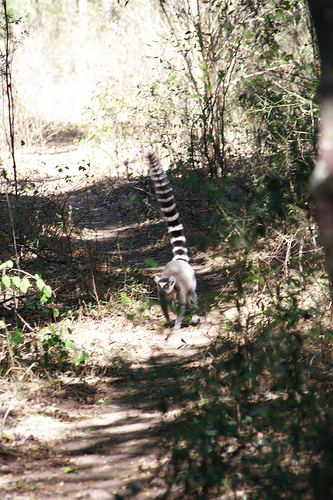cat: (145, 151, 197, 328)
